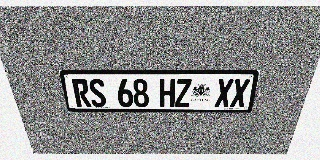6: (116, 79, 134, 107)
8: (132, 79, 149, 107)
H: (160, 79, 175, 107)
R: (71, 79, 92, 107)
S: (88, 79, 107, 107)
X: (214, 79, 234, 107), (230, 79, 250, 107)
Z: (175, 79, 192, 107)
